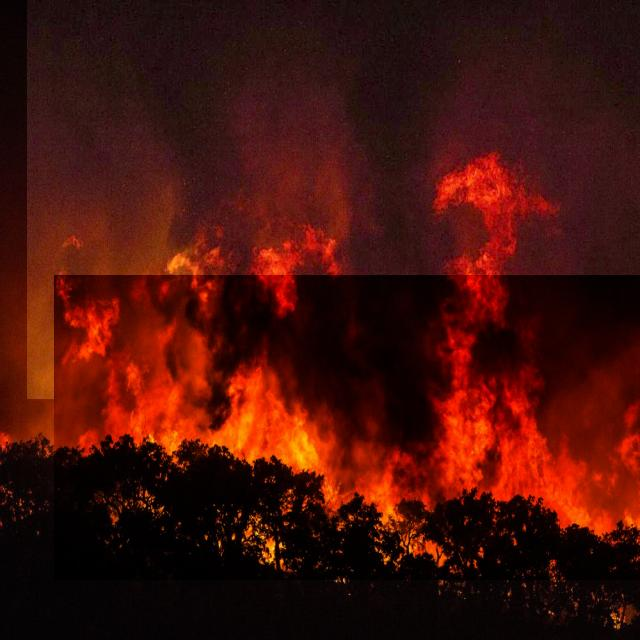Fire: (54, 275, 640, 580)
Smoke: (27, 0, 640, 399)
